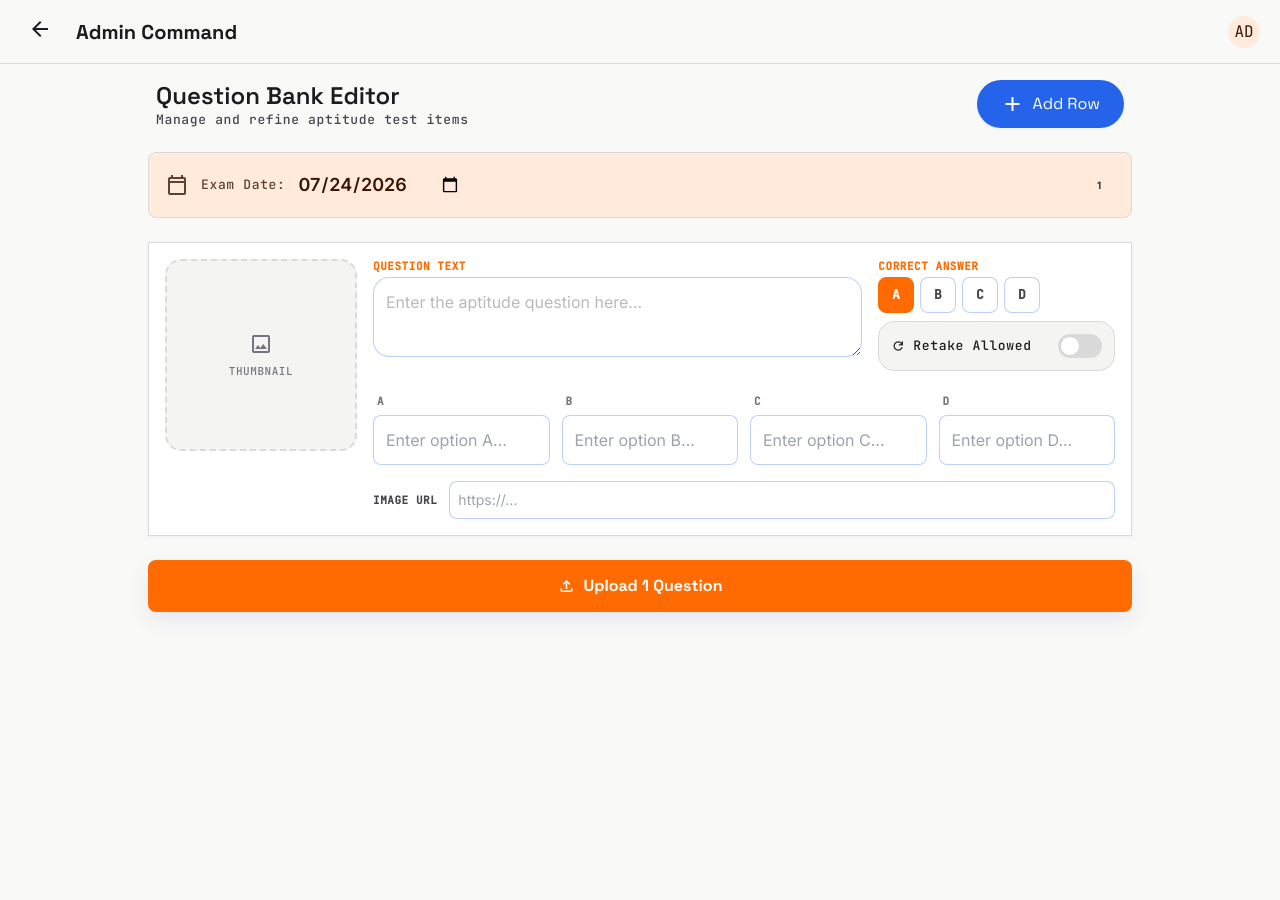
it: TeacherUpload › validates missing options on submit
This screenshot has width=1280, height=900.
Type "What is 2+2?" into the text box with placeholder "Enter the aptitude question here..." at (618, 317), box [373,277,862,357]
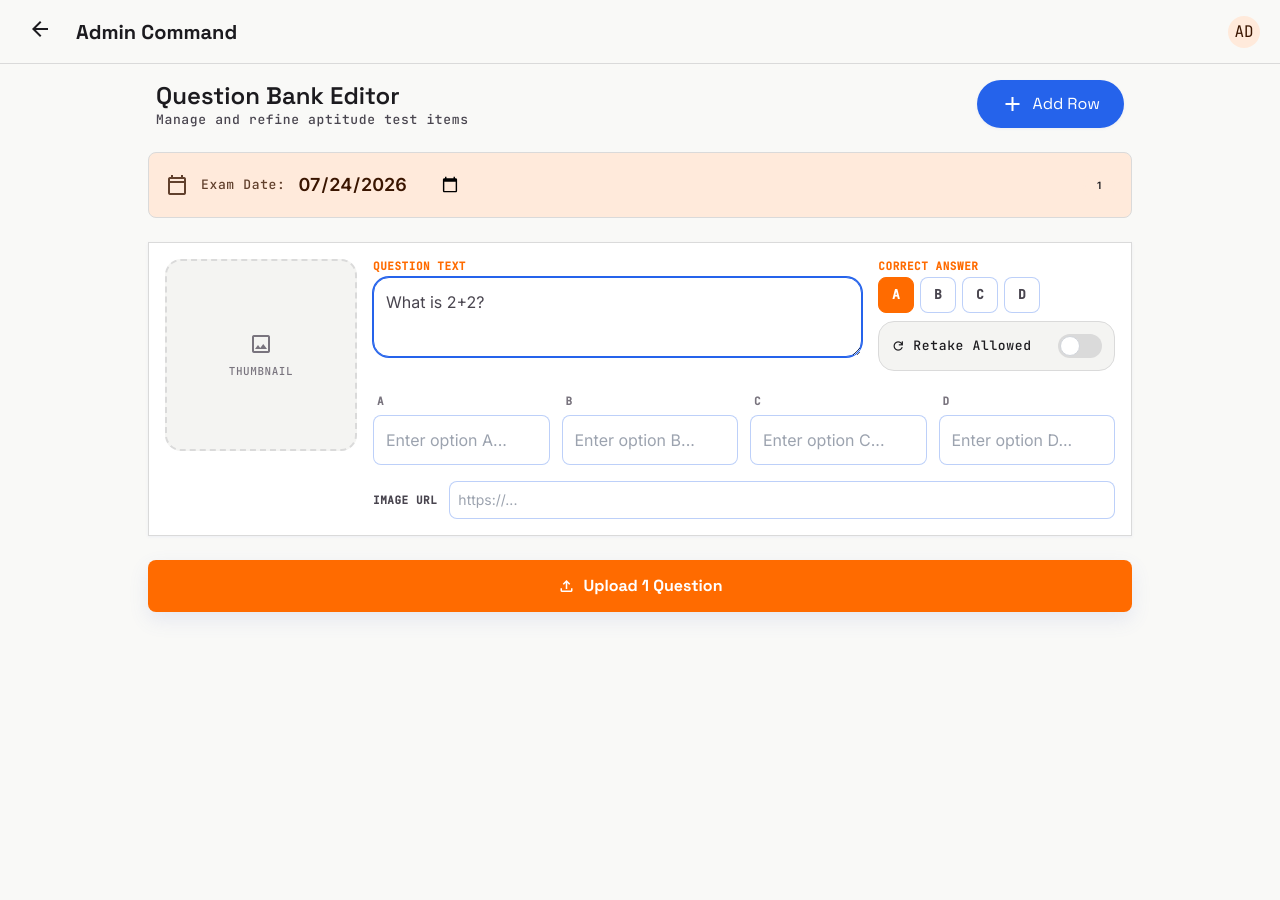
Click the button "Upload 1 Question" at (640, 586), box [148,560,1132,612]
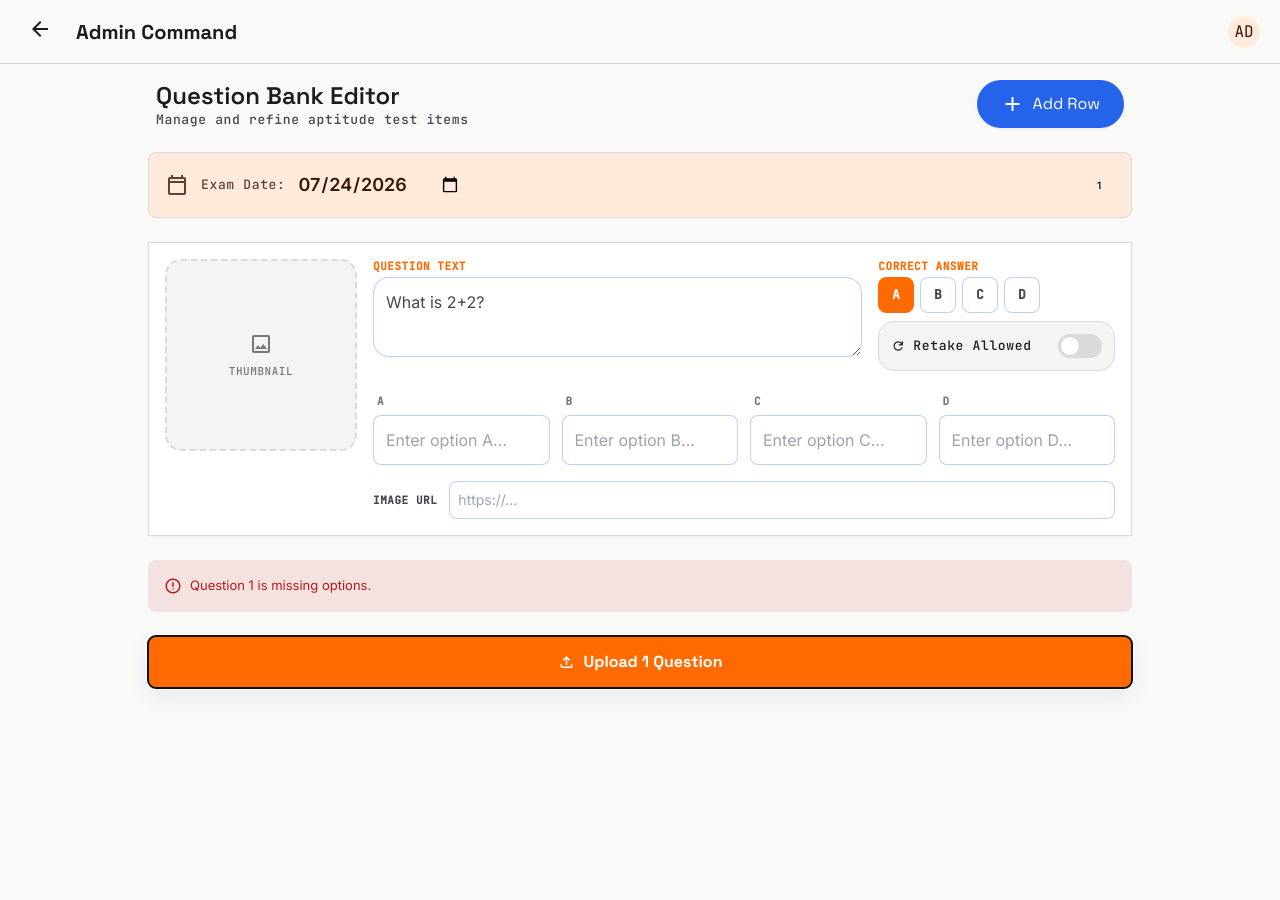
expect the text "Question 1 is missing options." is shown: met, box [190,576,371,596]
